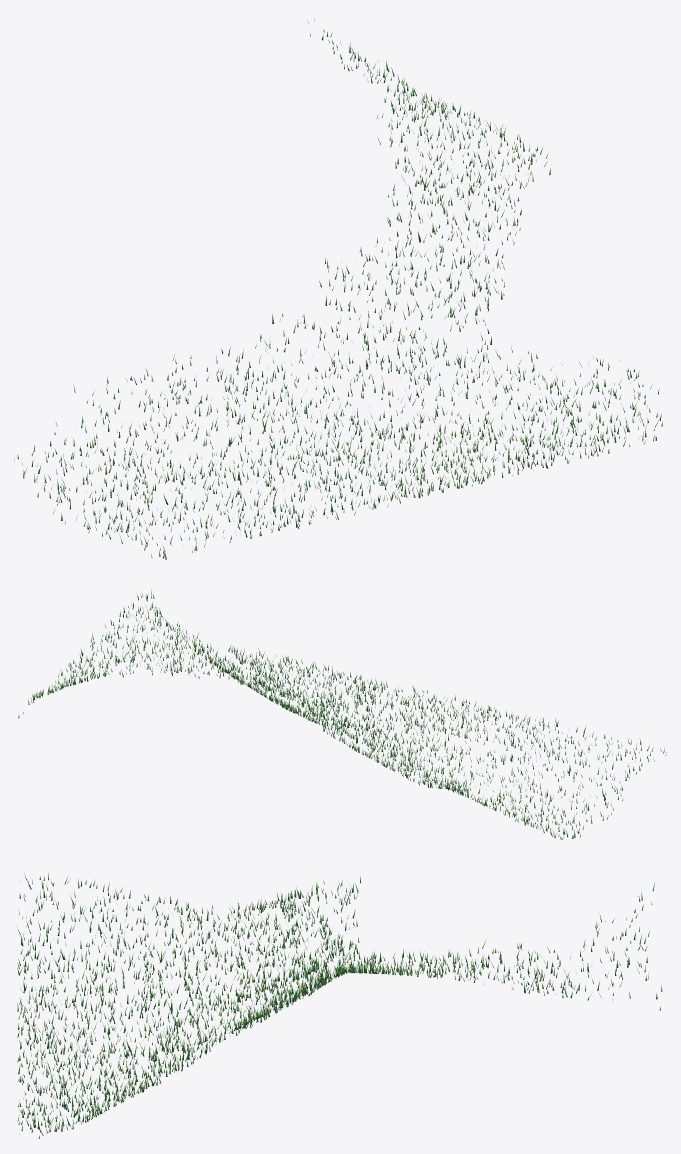
3 views of the same model, one above another, from view 1: azimuth 30°, elevation 25°; view 2: azimuth 150°, elevation 25°; view 3: azimuth 270°, elevation 25° (orthographic). The views are drawn at different scales.
Visible parts, largest first — view 1: gc_23; view 2: gc_23; view 3: gc_23.
Part boxes in pixels (box(x1,y1,x2,y2)): gc_23: box(14, 19, 662, 559); gc_23: box(18, 589, 666, 839); gc_23: box(17, 873, 662, 1138).
Bounding box in the file's own units: 18.12 × 7.96 × 18.09.
1 material, 1 textured.
